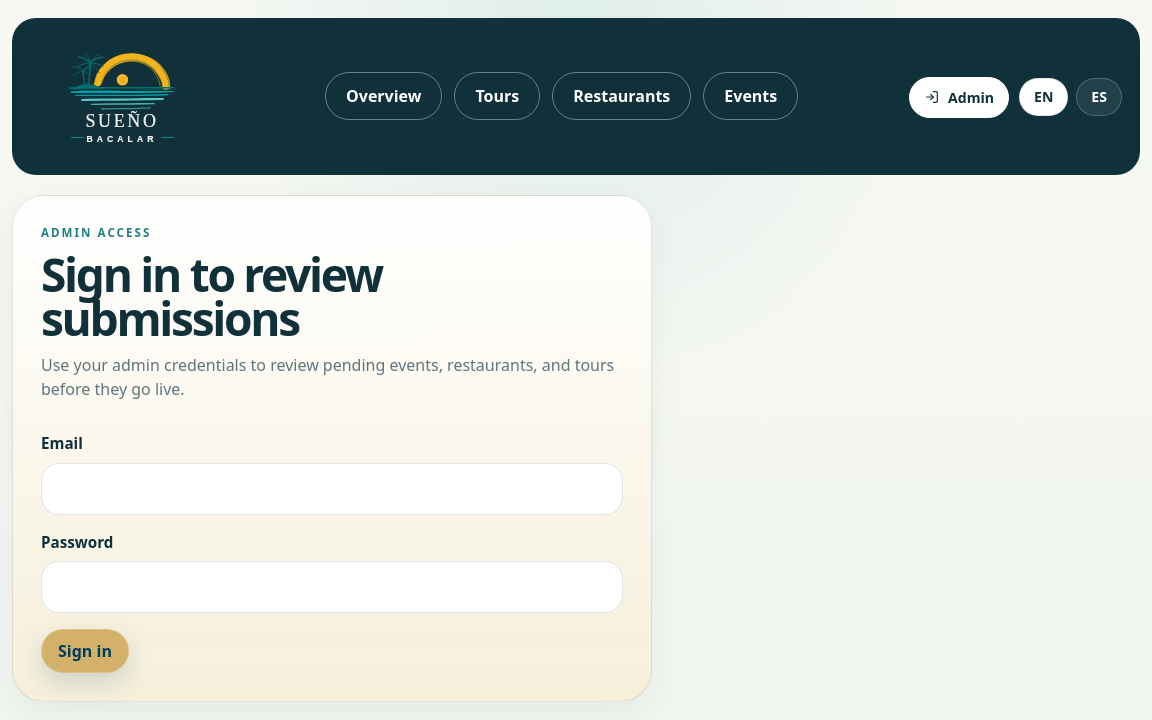
Test case: admin access flow › shows a login error when the admin session validation fails
This screenshot has width=1152, height=720.
Type "person@example.com" into the field named "Email" at (332, 489), box [41,463,623,515]
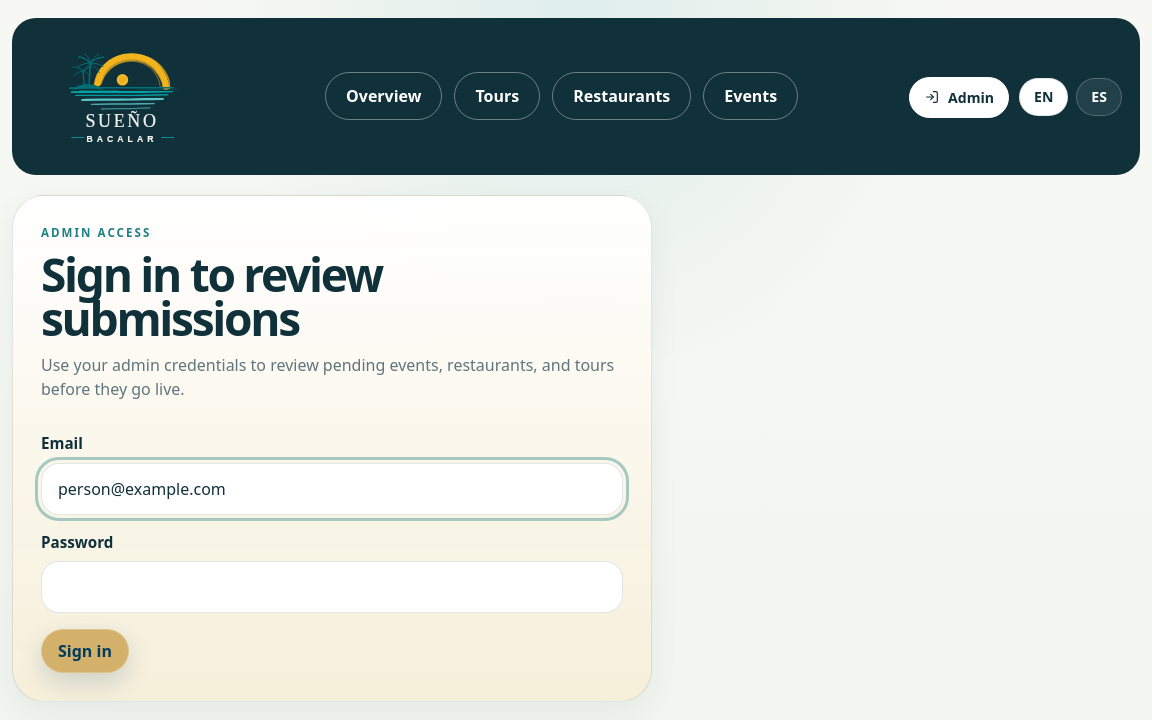
Type "secret" into the password field named "Password" at (332, 588), box [41,562,623,614]
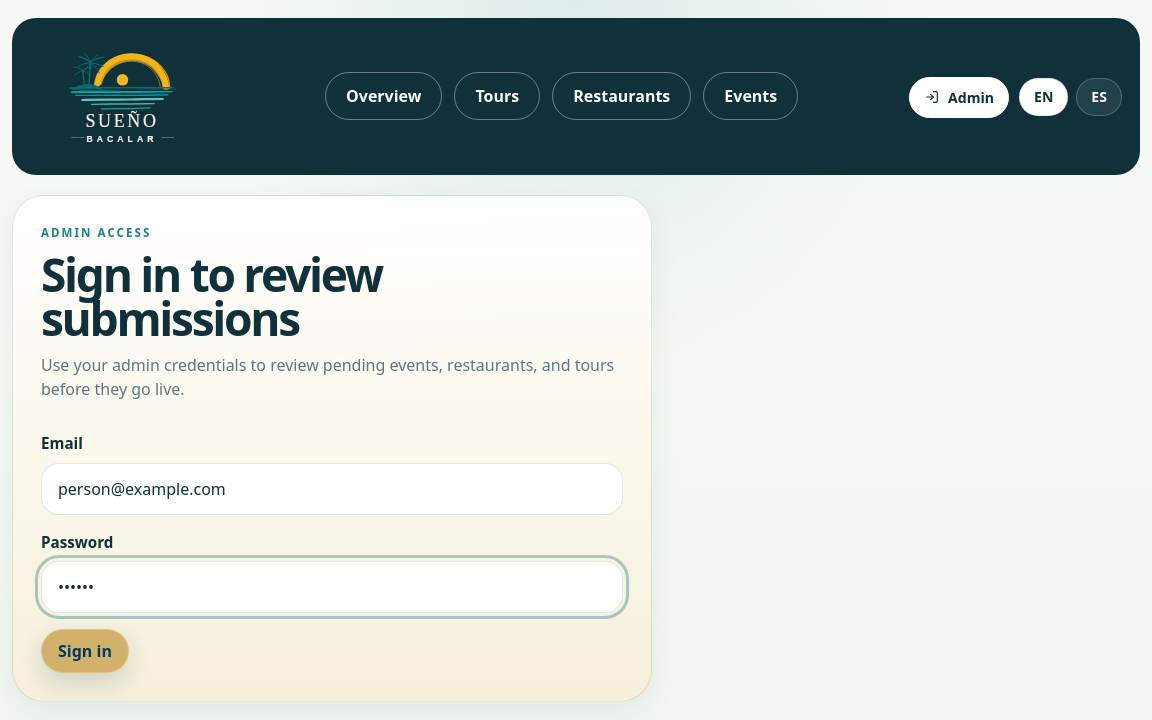
Click the button "Sign in" at (85, 652), box [41,630,129,674]
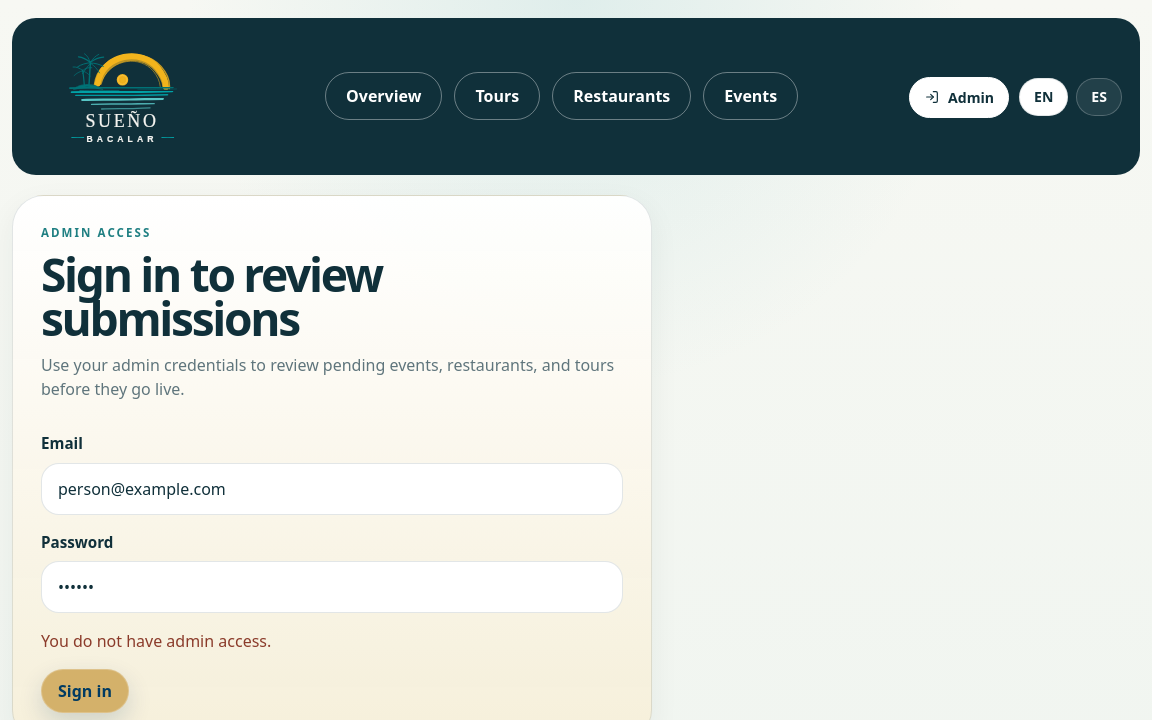
expect the text "You do not have admin access." is shown: met, box [41,630,271,652]
